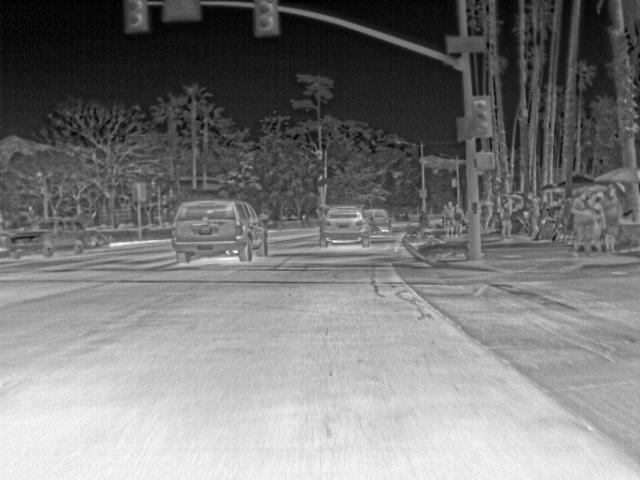car: (172, 198, 272, 262), (4, 218, 88, 262), (317, 204, 369, 250), (361, 206, 391, 237)
person: (571, 190, 595, 257), (603, 186, 623, 252), (499, 195, 515, 238), (444, 200, 457, 236), (451, 201, 464, 235)
